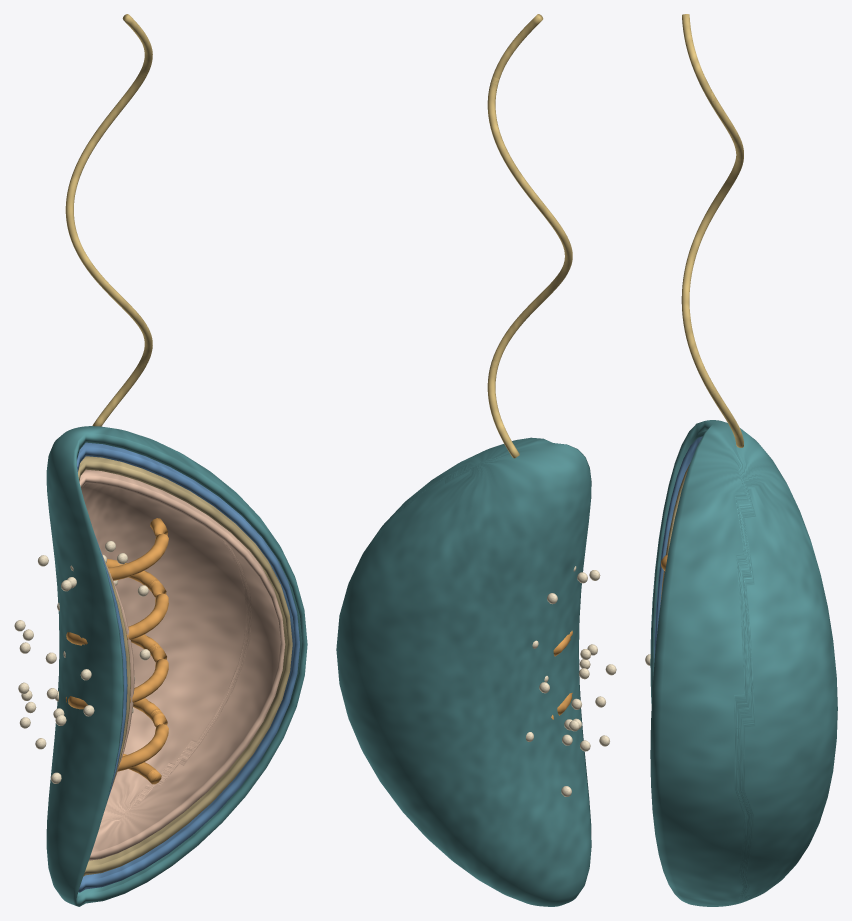
The model's file is cutaway.glb.
The picture shows the model from 3 angles, left to right: view 1: azimuth 30°, elevation 25°; view 2: azimuth 150°, elevation 25°; view 3: azimuth 270°, elevation 25°; orthographic projection. The views are drawn at different scales.
Visible parts, largest first — view 1: citoplasma_mesh, externa_mesh, parede_mesh, membrana_mesh, nucleoide_mesh, flagelo_mesh, ribossomos_mesh; view 2: externa_mesh, flagelo_mesh, ribossomos_mesh; view 3: externa_mesh, flagelo_mesh, parede_mesh.
Boxes of the visible parts, x1,y1,x2,y2 form: citoplasma_mesh: (79, 469, 285, 860); externa_mesh: (46, 426, 307, 906); parede_mesh: (77, 442, 299, 892); membrana_mesh: (78, 456, 292, 876); nucleoide_mesh: (65, 518, 168, 784); flagelo_mesh: (65, 14, 152, 426); ribossomos_mesh: (14, 541, 150, 783); externa_mesh: (336, 437, 591, 906); flagelo_mesh: (487, 14, 572, 458); ribossomos_mesh: (526, 566, 616, 796); externa_mesh: (650, 420, 837, 906); flagelo_mesh: (681, 14, 743, 447); parede_mesh: (654, 436, 702, 662).
Bounding box in the file's own units: 1.36 × 4.36 × 0.8485.
Materials: 7 (7 with a texture image).
